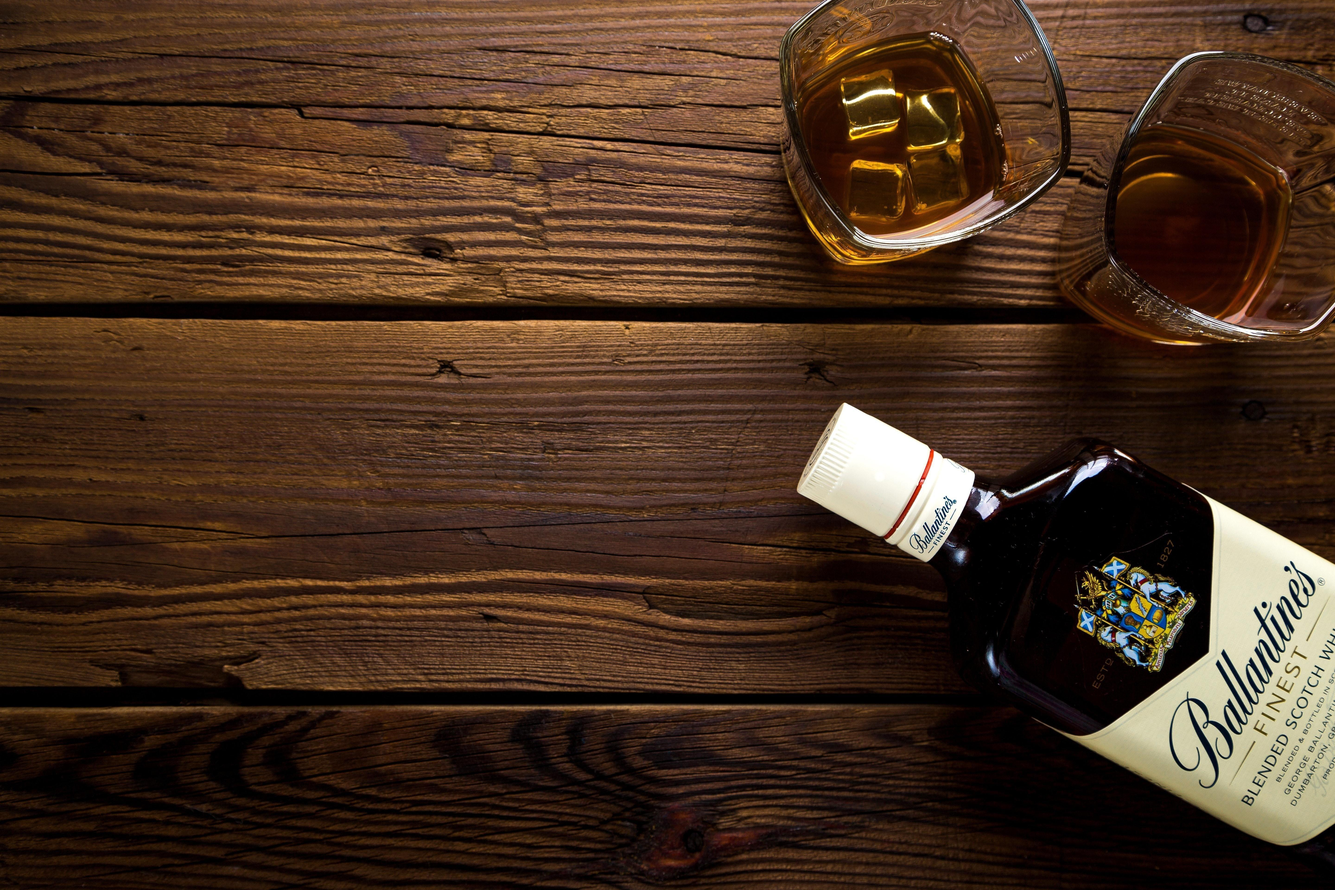bottle-glass: (785, 393, 1333, 852)
glass-normal: (1060, 48, 1334, 345), (771, 3, 1072, 264)
